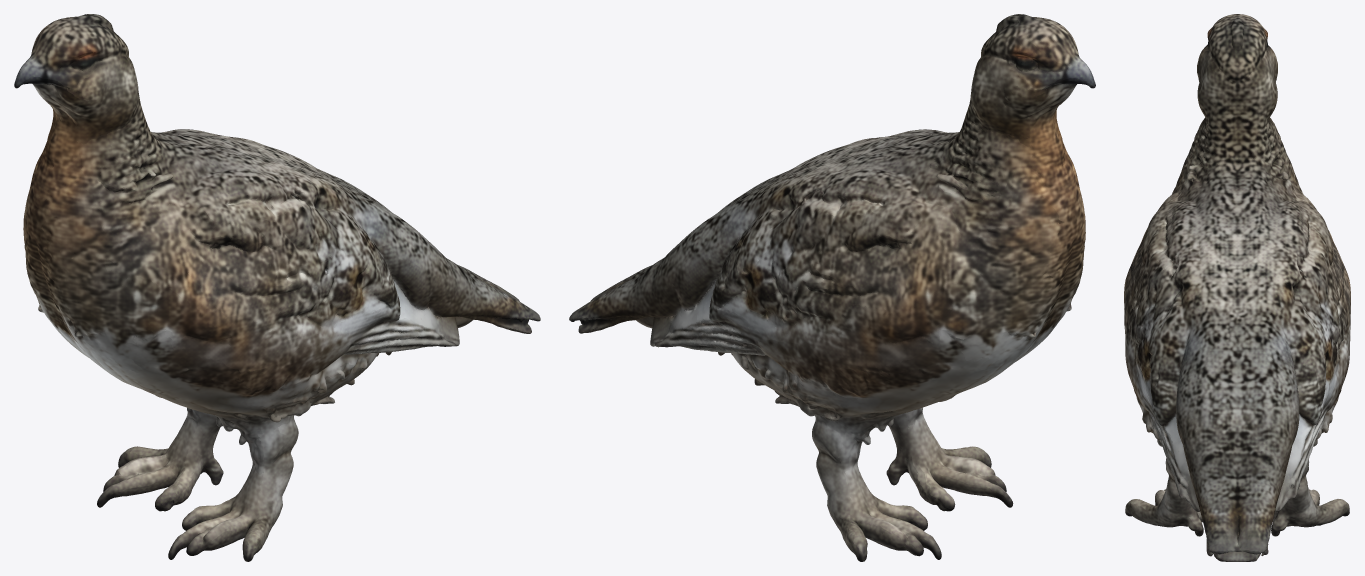
File: task-4902692.glb
3 views of the same model, side by side, from view 1: azimuth 30°, elevation 25°; view 2: azimuth 150°, elevation 25°; view 3: azimuth 270°, elevation 25° (orthographic). The views are drawn at different scales.
Visible parts, largest first — view 1: world; view 2: world; view 3: world.
Boxes of the visible parts, box(x1,y1,x2,y2) form: world: box(14, 14, 540, 561); world: box(569, 14, 1095, 561); world: box(1124, 14, 1350, 561).
Bounding box in the file's own units: 0.35 × 0.3458 × 0.1555.
1 material, 1 textured.
